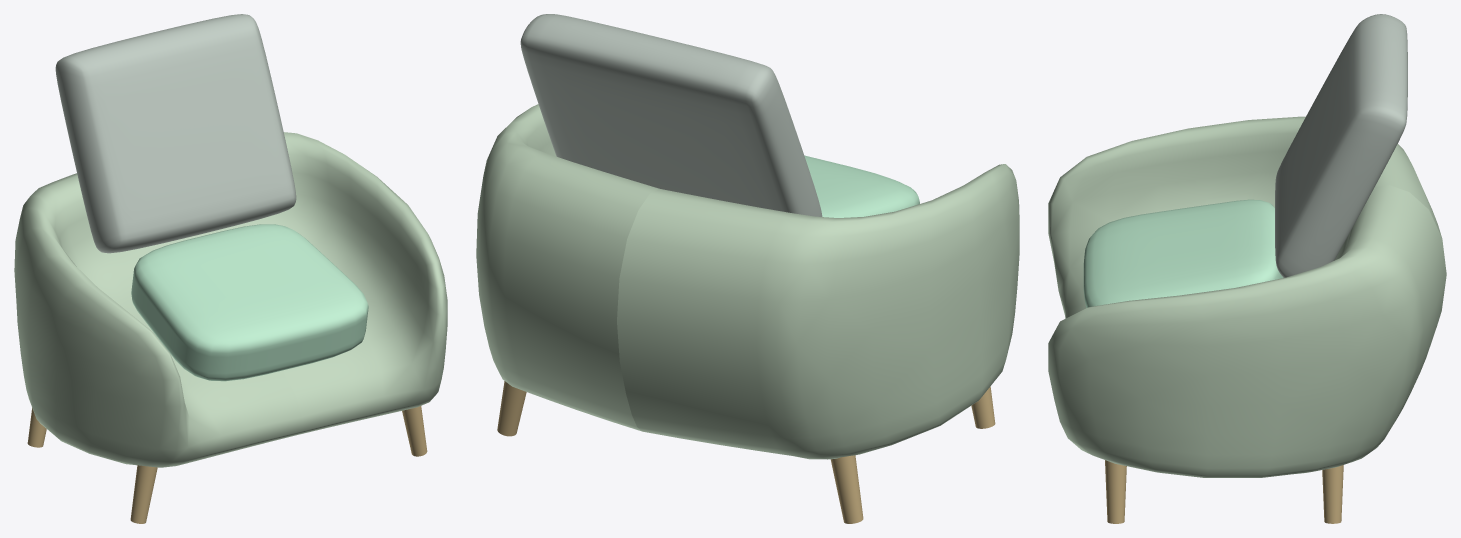
File: sofa.glb
3 views of the same model, side by side, from view 1: azimuth 30°, elevation 25°; view 2: azimuth 150°, elevation 25°; view 3: azimuth 270°, elevation 25° (orthographic). The views are drawn at different scales.
Parts seen in each view (by area): view 1: Box005, Box004, Box002, Box003, Cone001, Cone002; view 2: Box004, Box005, Box002, Box003, Cone004, Cone003, Cone001; view 3: Box002, Box004, Box005, Box003, Cone002, Cone003.
Boxes of the visible parts, box(x1,y1,x2,y2) form: Box005: box(55, 14, 296, 253); Box004: box(14, 173, 302, 467); Box002: box(183, 132, 447, 434); Box003: box(131, 224, 368, 381); Cone001: box(130, 465, 157, 523); Cone002: box(402, 406, 427, 456); Box004: box(617, 164, 1019, 459); Box005: box(520, 14, 822, 216); Box002: box(476, 104, 659, 431); Box003: box(804, 155, 919, 217); Cone004: box(830, 455, 863, 523); Cone003: box(497, 381, 526, 436); Cone001: box(971, 386, 995, 428); Box002: box(1048, 185, 1446, 477); Box004: box(1048, 116, 1441, 318); Box005: box(1275, 14, 1407, 277); Box003: box(1083, 199, 1283, 307); Cone002: box(1105, 460, 1126, 523); Cone003: box(1322, 465, 1343, 523).
Size of the model in its own units: 2.23 by 2.13 by 1.96.
